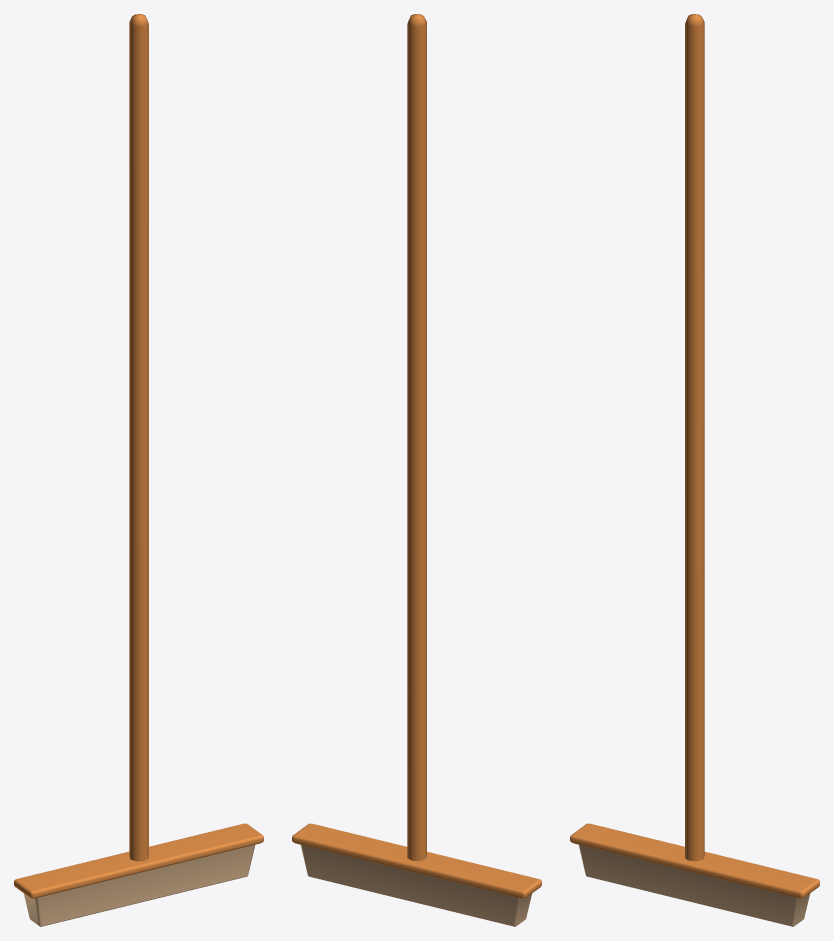
The model's file is Broom.fbx.
3 views of the same model, side by side, from view 1: azimuth 30°, elevation 25°; view 2: azimuth 150°, elevation 25°; view 3: azimuth 330°, elevation 25° (orthographic).
Visible parts, largest first — view 1: Broom; view 2: Broom; view 3: Broom.
Boxes of the visible parts, bbox=[...] form: Broom: bbox=[14, 14, 263, 926]; Broom: bbox=[292, 14, 541, 926]; Broom: bbox=[570, 14, 819, 926].
Size of the model in its own units: 21.08 by 76.15 by 2.9.
